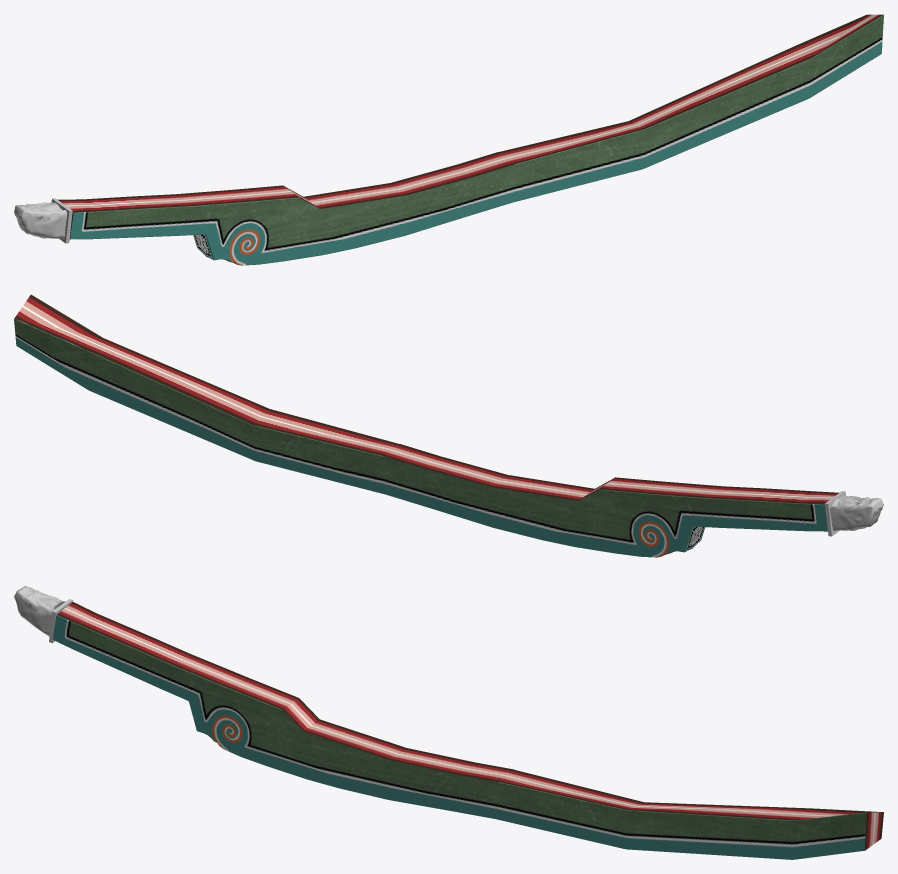
Rendered from SM_AngleRafter01C.fbx.
3 renders of one model, top to bottom at view 1: azimuth 30°, elevation 25°; view 2: azimuth 150°, elevation 25°; view 3: azimuth 330°, elevation 25°, orthographic.
Parts seen in each view (by area): view 1: SM_AngleRafter01C; view 2: SM_AngleRafter01C; view 3: SM_AngleRafter01C.
Boxes of the visible parts, bbox=[...] form: SM_AngleRafter01C: bbox=[14, 14, 883, 265]; SM_AngleRafter01C: bbox=[14, 294, 883, 557]; SM_AngleRafter01C: bbox=[14, 586, 883, 859].
Size of the model in its own units: 770 by 27.48 by 99.53.
